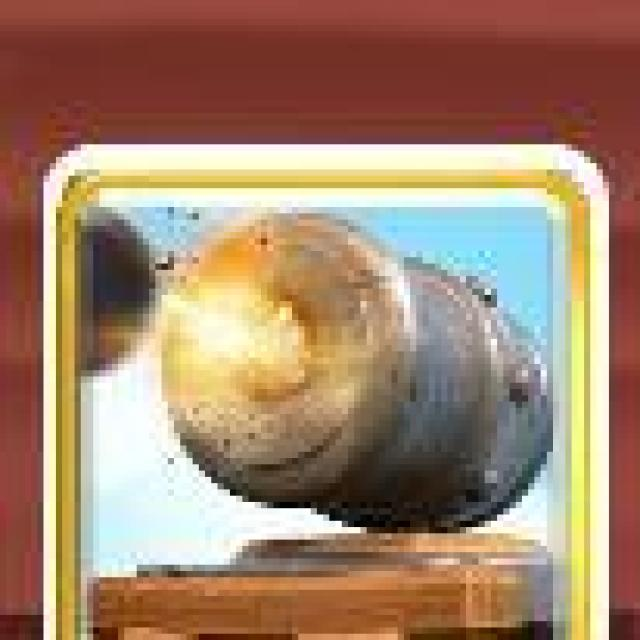Cannon_Cart: (42, 144, 610, 640)
